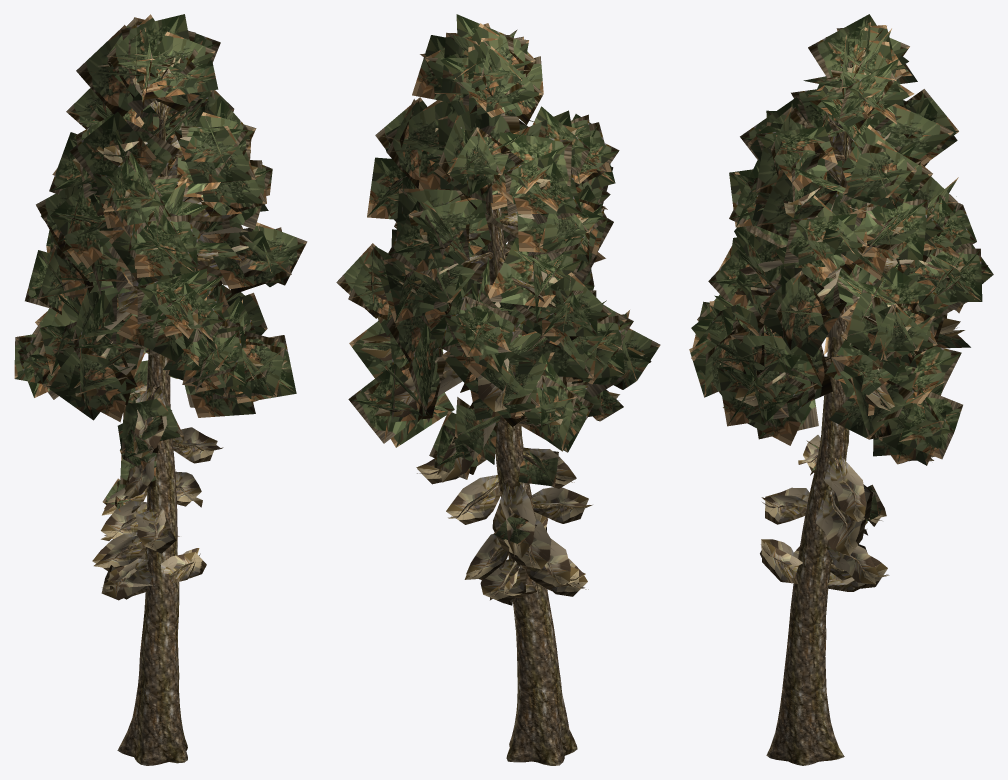
File: Tree_07.fbx
3 renders of one model, left to right at view 1: azimuth 30°, elevation 25°; view 2: azimuth 150°, elevation 25°; view 3: azimuth 270°, elevation 25°, orthographic. The views are drawn at different scales.
Visible parts, largest first — view 1: LOD0; view 2: LOD0; view 3: LOD0.
Boxes of the visible parts, box(x1,y1,x2,y2) form: LOD0: box(14, 14, 307, 765); LOD0: box(336, 14, 660, 765); LOD0: box(689, 14, 993, 765).
Bounding box in the file's own units: 462 × 1288 × 479.
